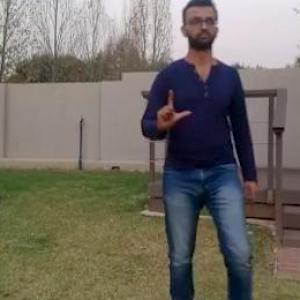land_hand: (155, 81, 202, 135)
